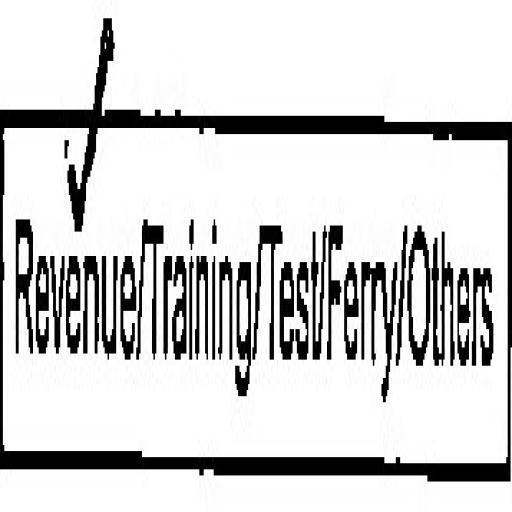check: (0, 0, 142, 497)
